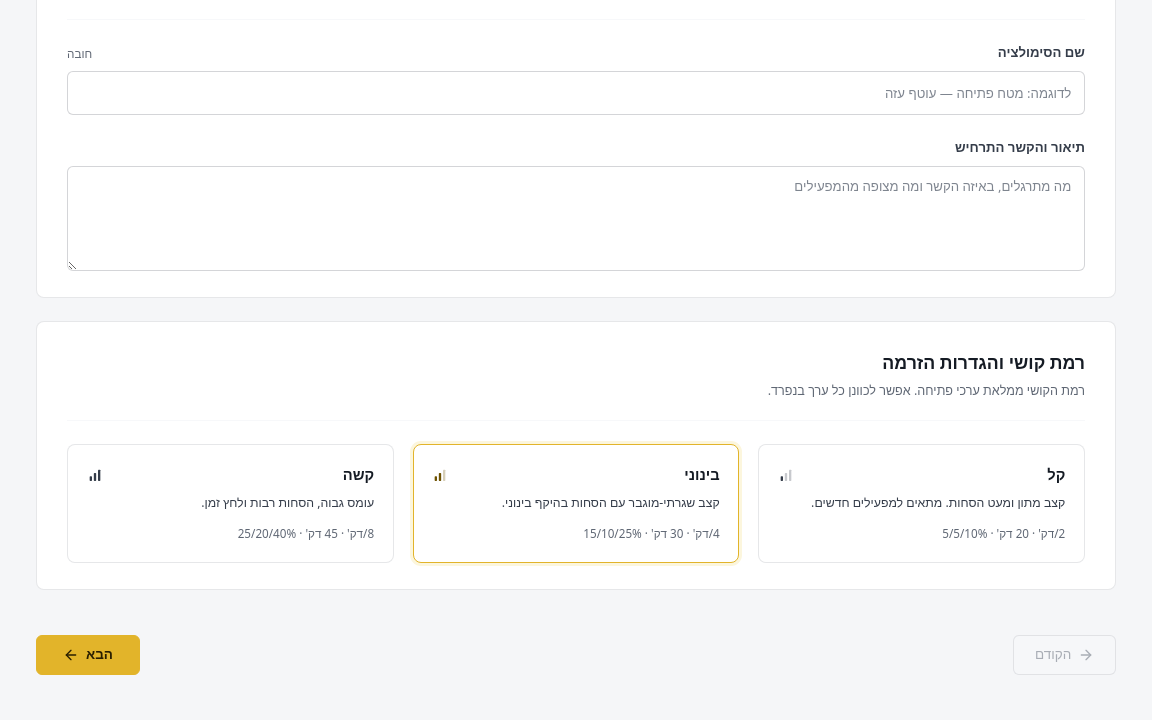
Simulation Flow - Mockup Alignment › validates simulation name on create simulation page
The image size is (1152, 720).
(page scrolled)
Click the button "הבא" at [88, 655], box top-left (36, 635), bottom-right (140, 675)
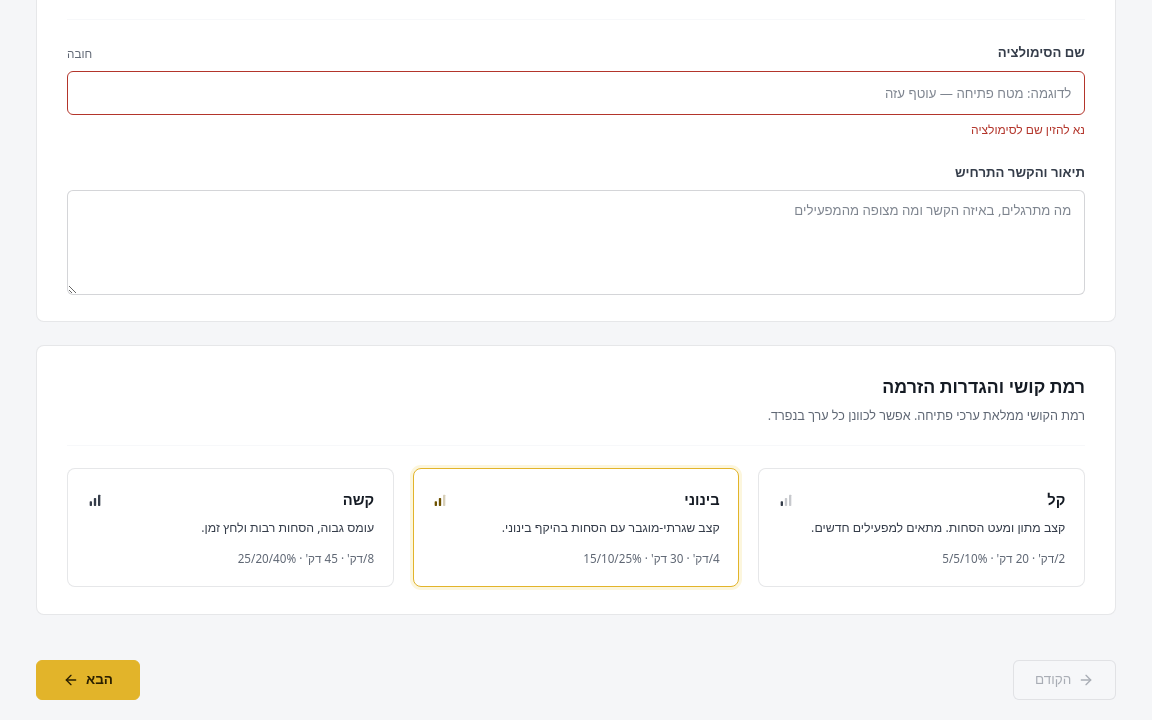
Expected: the text "נא להזין שם לסימולציה" is shown, top-left (971, 121), bottom-right (1085, 138)
